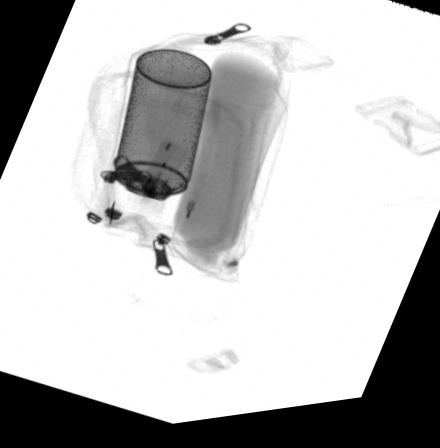Lighter: (127, 138, 193, 218)
Sprayer: (99, 53, 212, 245)
